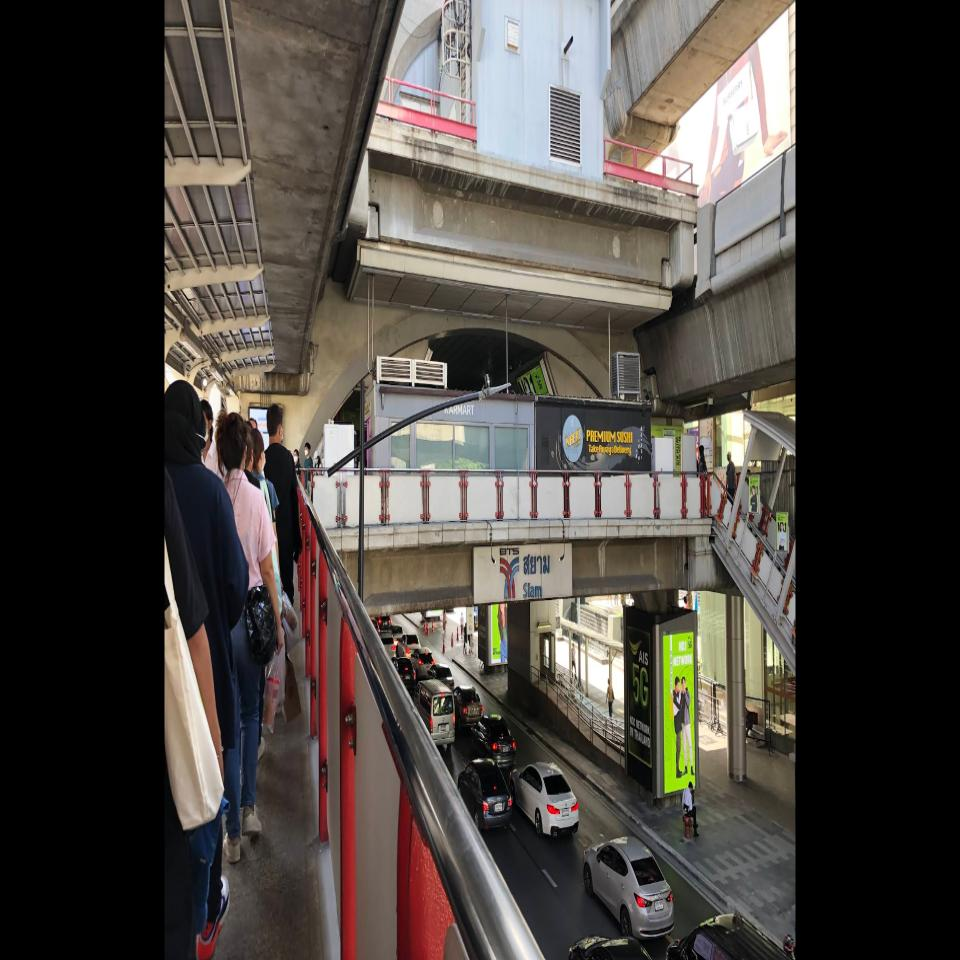Siam: (499, 548, 551, 600), (523, 555, 550, 599)
